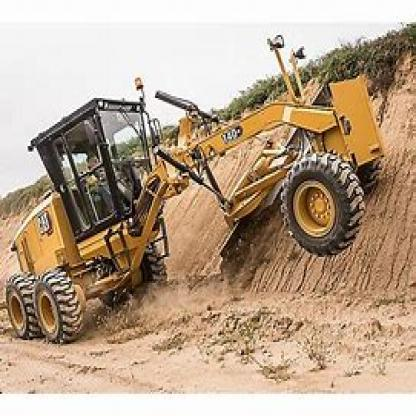bull_dozer/loader/grader: (3, 66, 385, 344)
